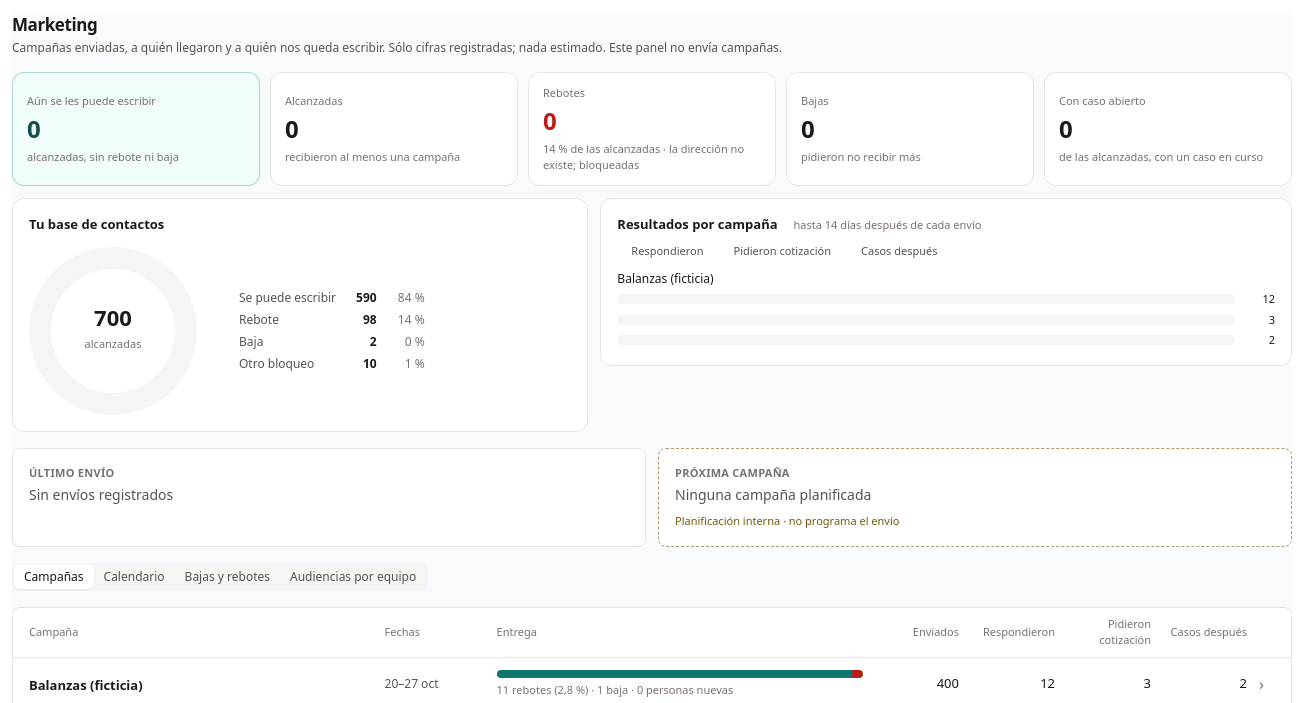
Test: Marketing analytics › a figure in a row opens its people without opening the detail
Click the button "3" below "Enviados" at (1147, 684), box left=1144, top=674, right=1151, bottom=694
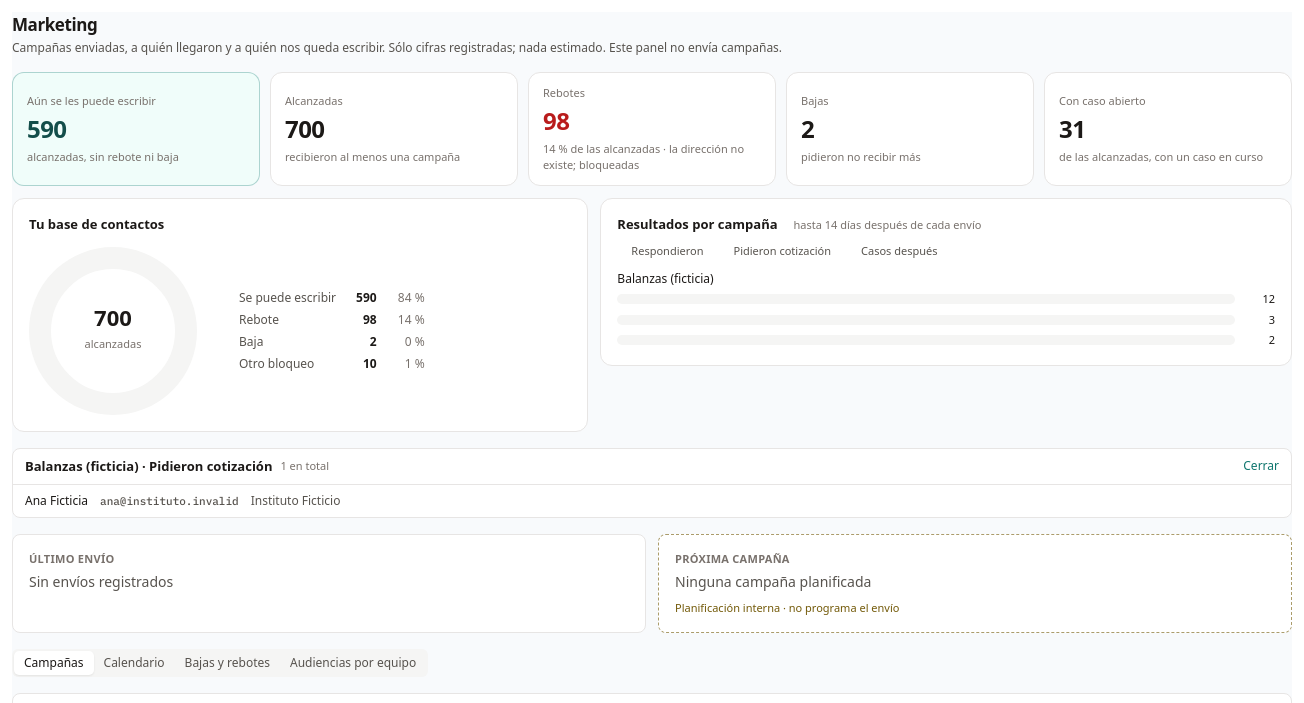
expect the list with test id "people-list" is shown: met, box left=25, top=492, right=340, bottom=509
